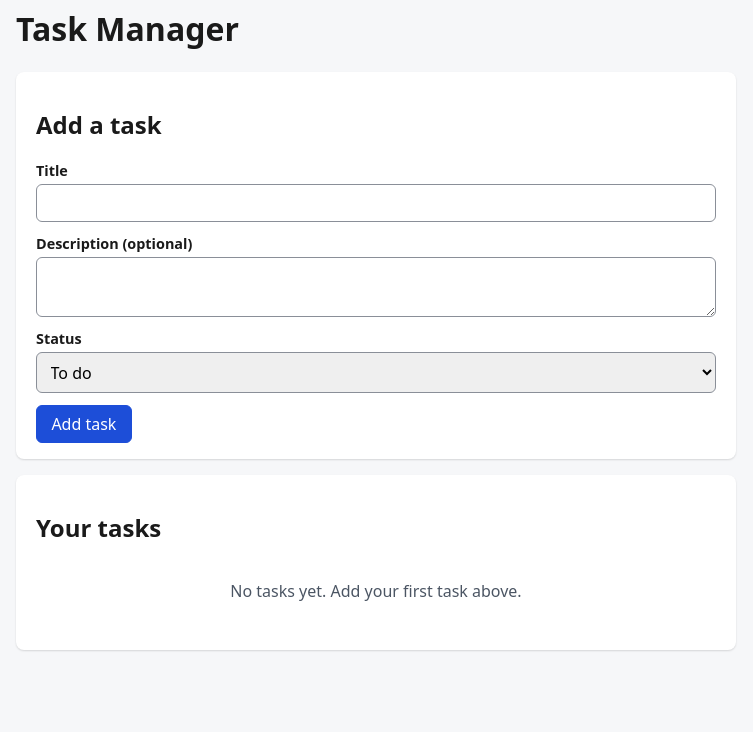
Test: App › shows a dismissible banner when saving fails
The image size is (753, 732).
Type "Cannot save" into the field labelled "Title". click: (376, 203)
box: [36,184,716,222]
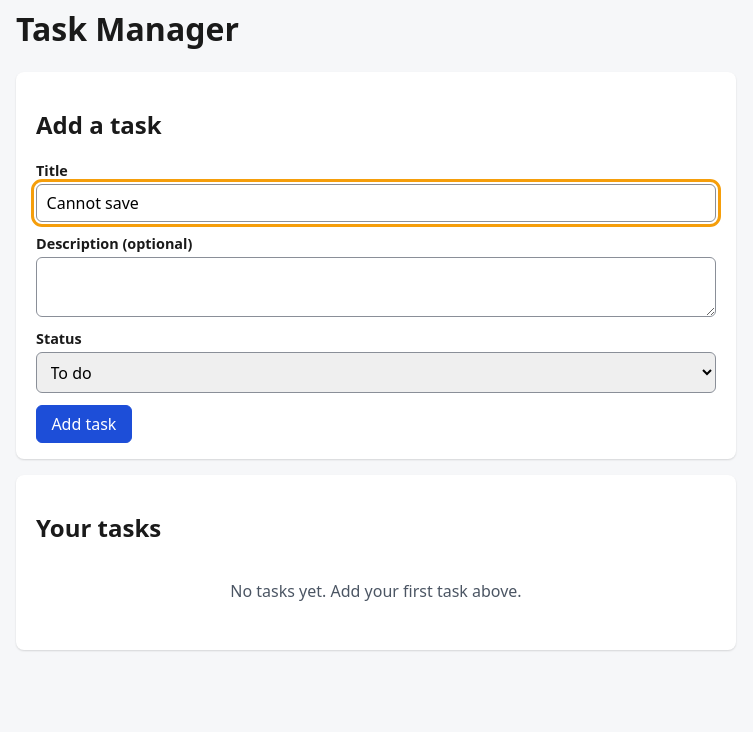
Click the button "Add task". click: (84, 424)
box: [36,405,132,443]
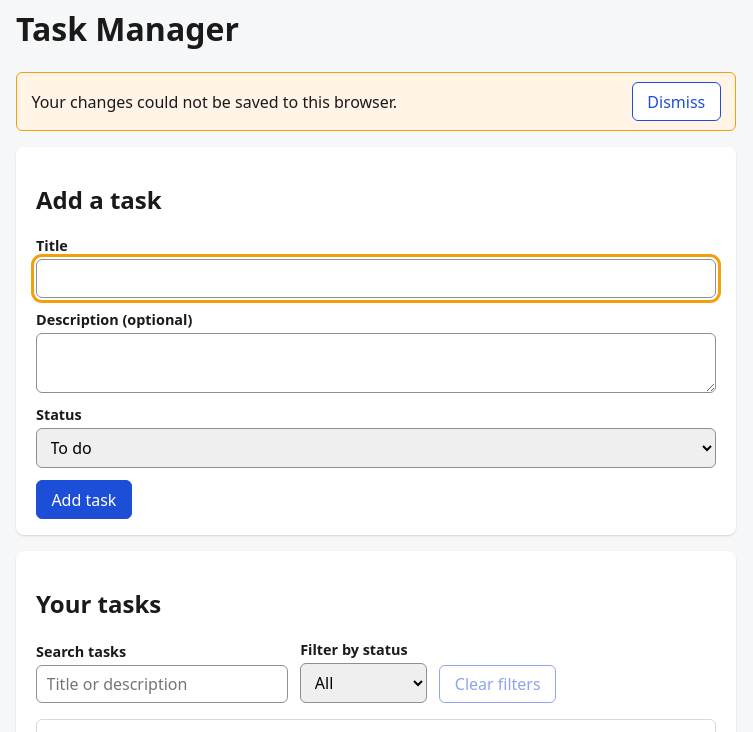
Check: the message shows "could not be saved", box [31,91,397,113]
Click the button "Dismiss". click: (676, 102)
box: [632,82,721,121]
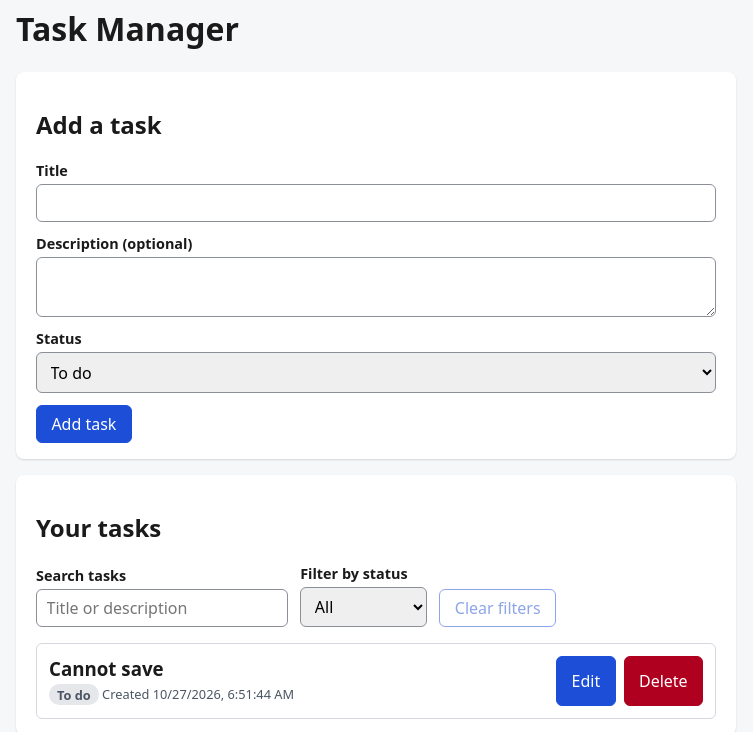
Check: the text "could not be saved" is gone
